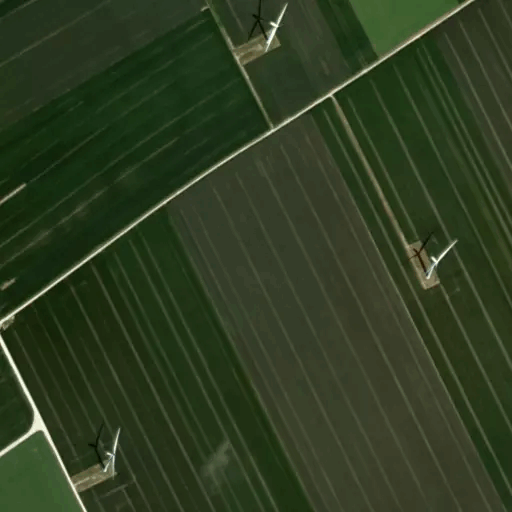wt: (396, 223, 462, 291), (238, 1, 297, 57), (80, 416, 126, 487)
